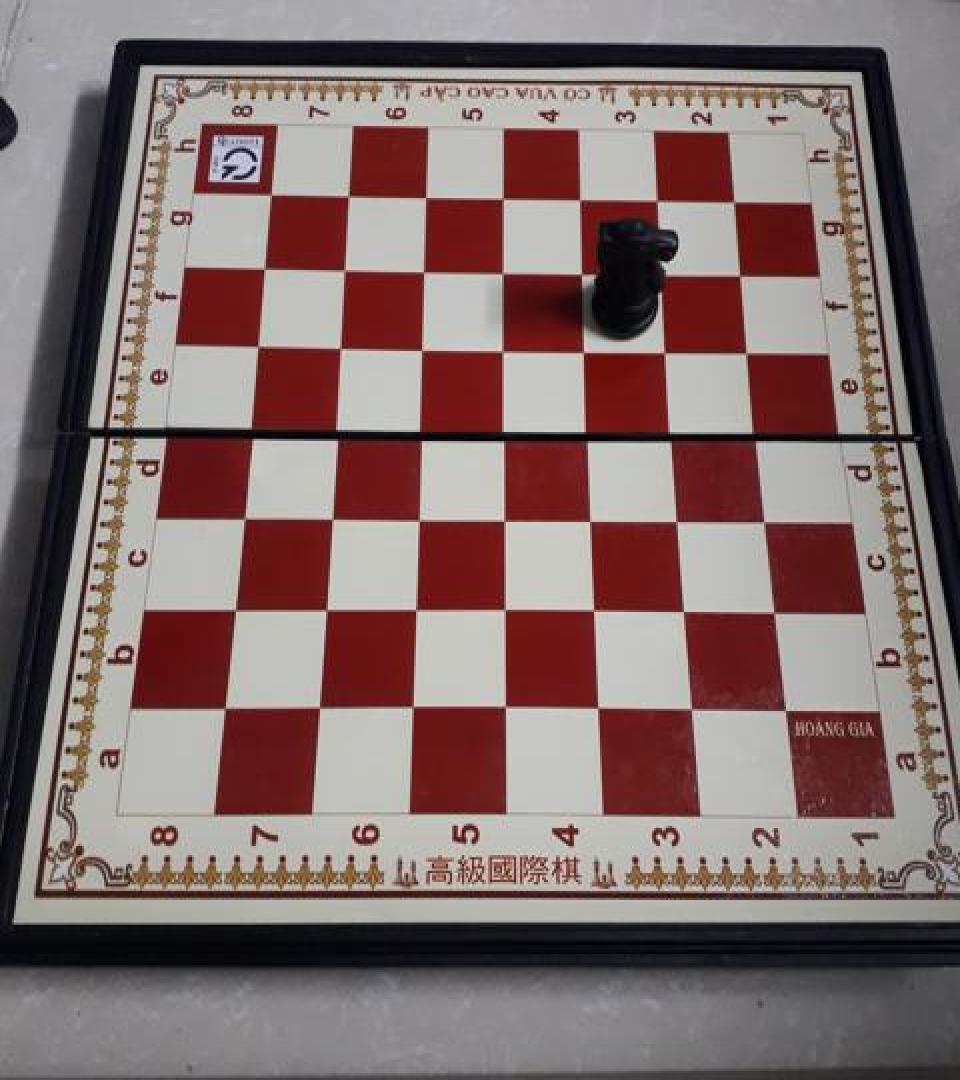xcorner: (396, 688, 428, 725), (489, 689, 521, 726), (583, 689, 615, 726), (308, 588, 340, 625), (398, 588, 430, 625), (208, 688, 240, 724), (302, 688, 334, 724), (676, 691, 708, 727), (769, 691, 801, 727), (217, 587, 249, 623), (489, 590, 521, 626), (579, 590, 611, 626), (669, 590, 701, 626), (758, 592, 790, 628), (225, 494, 257, 530), (313, 495, 345, 531), (401, 495, 433, 531), (488, 496, 520, 532), (575, 497, 607, 533), (662, 498, 694, 534), (749, 498, 781, 534), (233, 406, 265, 442), (318, 407, 350, 443), (403, 408, 435, 444), (487, 410, 519, 446), (572, 410, 604, 446), (656, 410, 688, 446), (740, 412, 772, 448), (241, 325, 273, 361), (323, 326, 355, 362), (405, 326, 437, 362), (487, 328, 519, 364), (650, 330, 682, 366), (731, 331, 763, 367), (248, 248, 280, 284), (327, 248, 359, 284), (407, 250, 439, 286), (486, 251, 518, 287), (566, 252, 598, 288), (645, 253, 677, 289), (724, 254, 756, 290), (254, 176, 286, 212), (332, 176, 364, 212), (409, 178, 441, 214), (486, 179, 518, 215), (563, 180, 595, 216), (640, 181, 672, 217), (716, 182, 748, 218), (569, 329, 601, 364)
